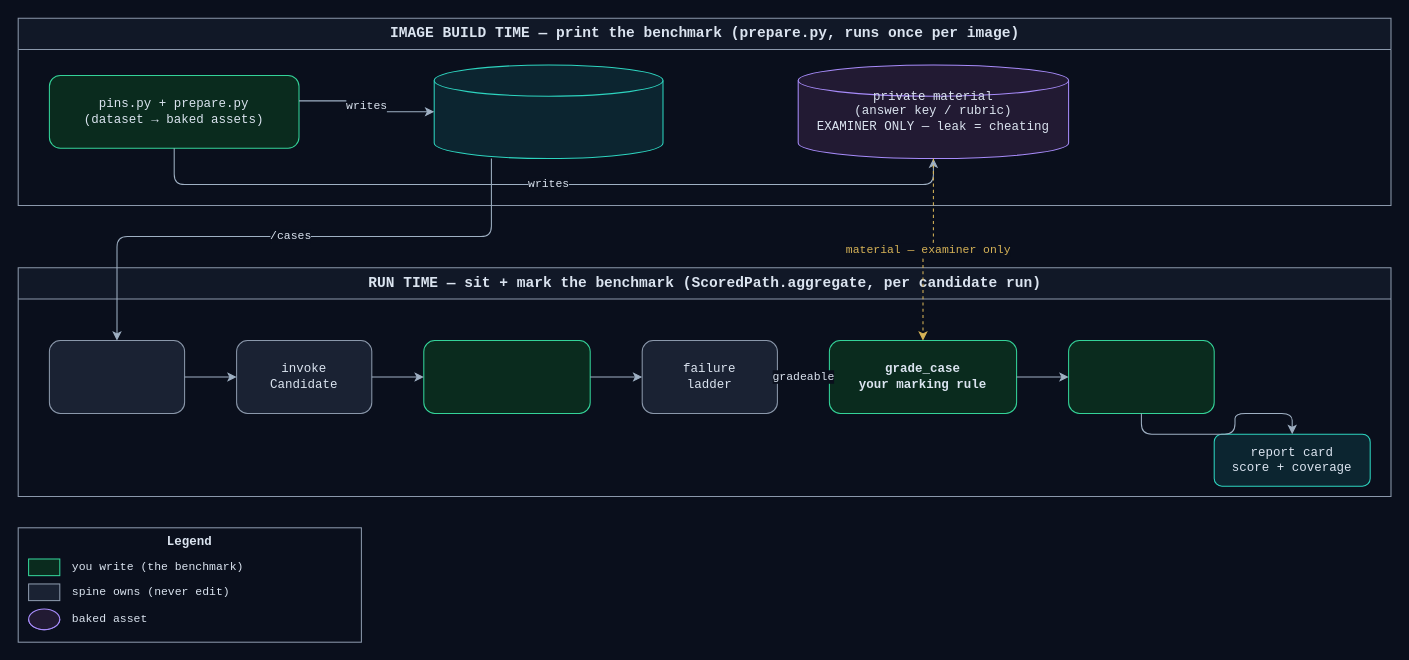
Image size: 1409x660. Some labels were removed from this diagram. The centre of each missing label's shape, as x and y in pixels:
"cases.json {id, input} PUBLIC — all a client sees" goes at point 548,111.
"decode rows your CaseGradeReader" goes at point 506,376.
"scorer your formula" goes at point 1141,376.
"select cases" goes at point 116,376.
